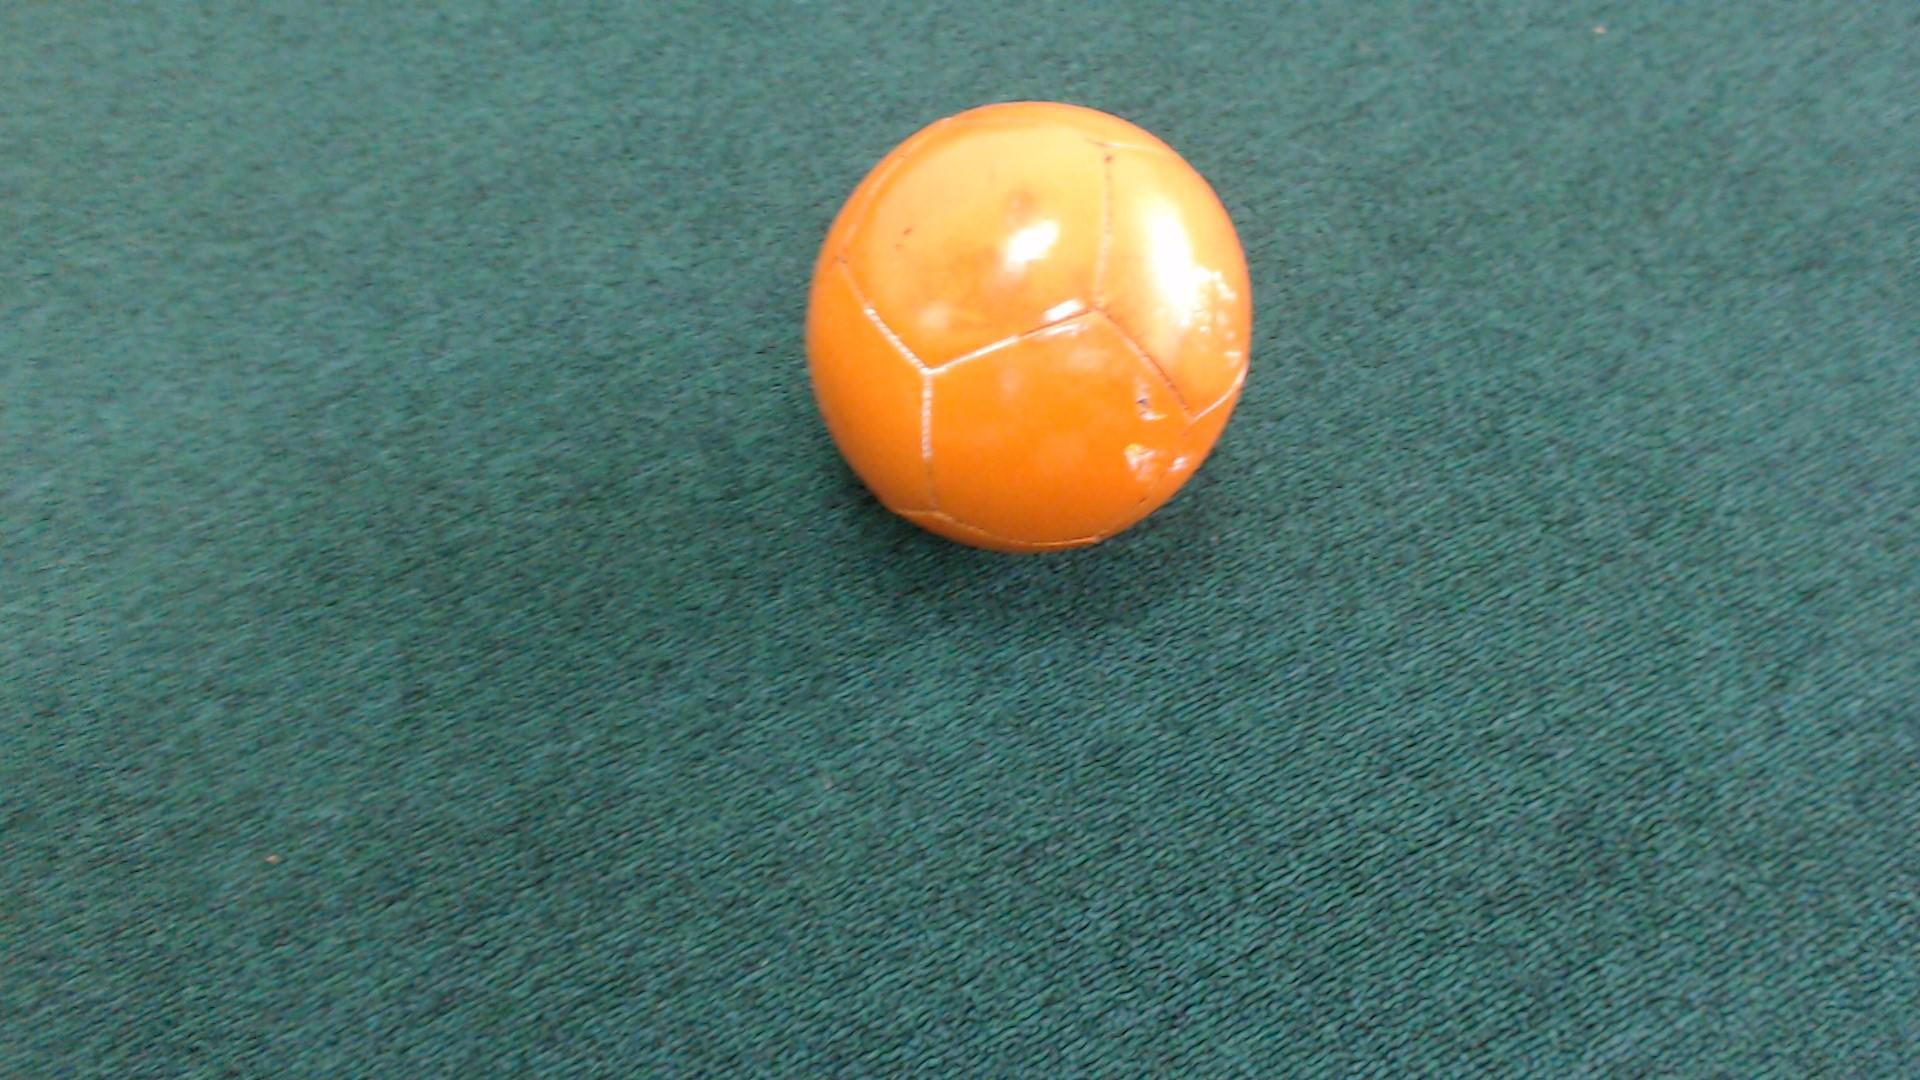bola: (794, 83, 1280, 579)
